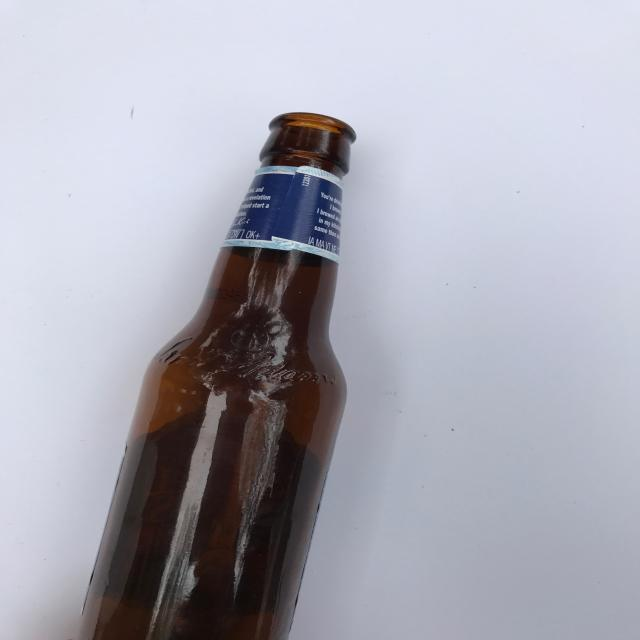glass: (86, 112, 358, 640)
